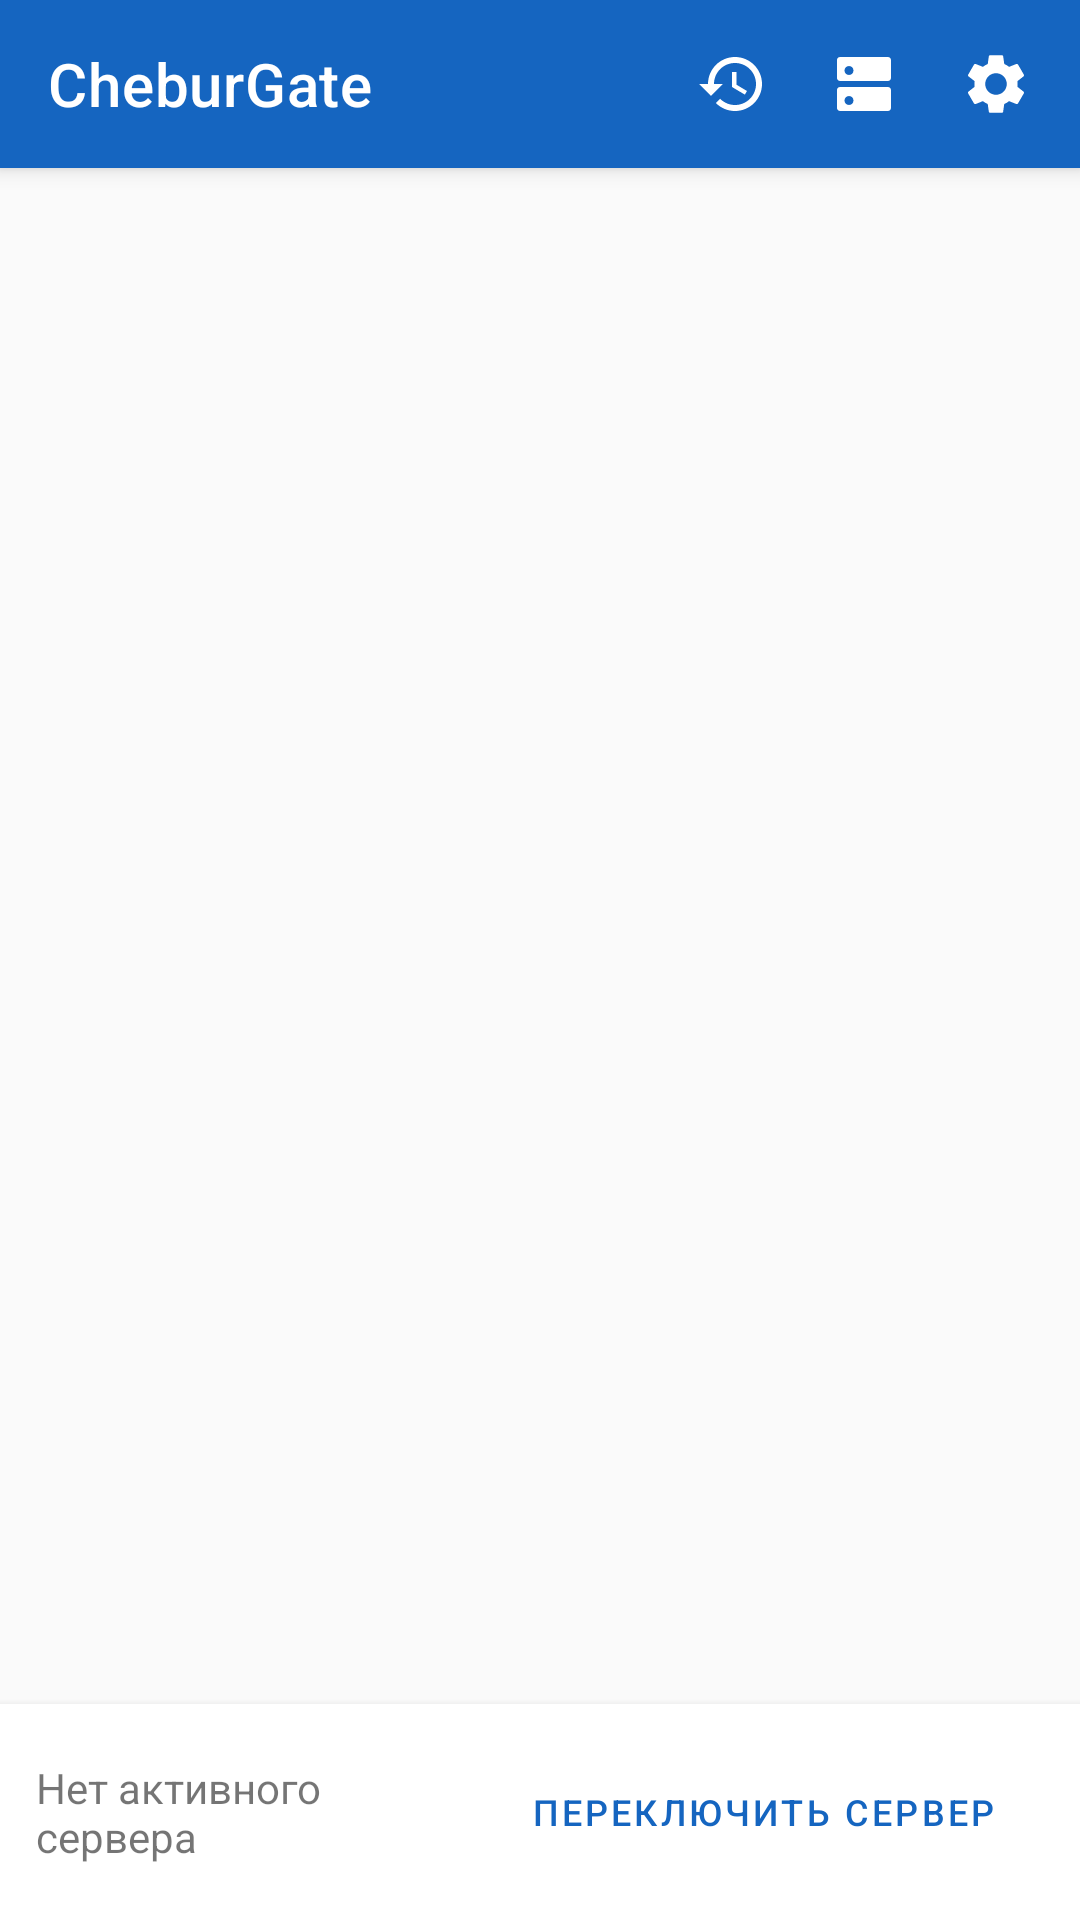

Icons on this 1080 x 1920 Android screen, each with its box as (x1, y1, x2, y2):
История: (699, 57, 762, 111)
Настройки: (968, 55, 1024, 113)
Серверы: (837, 57, 891, 111)
